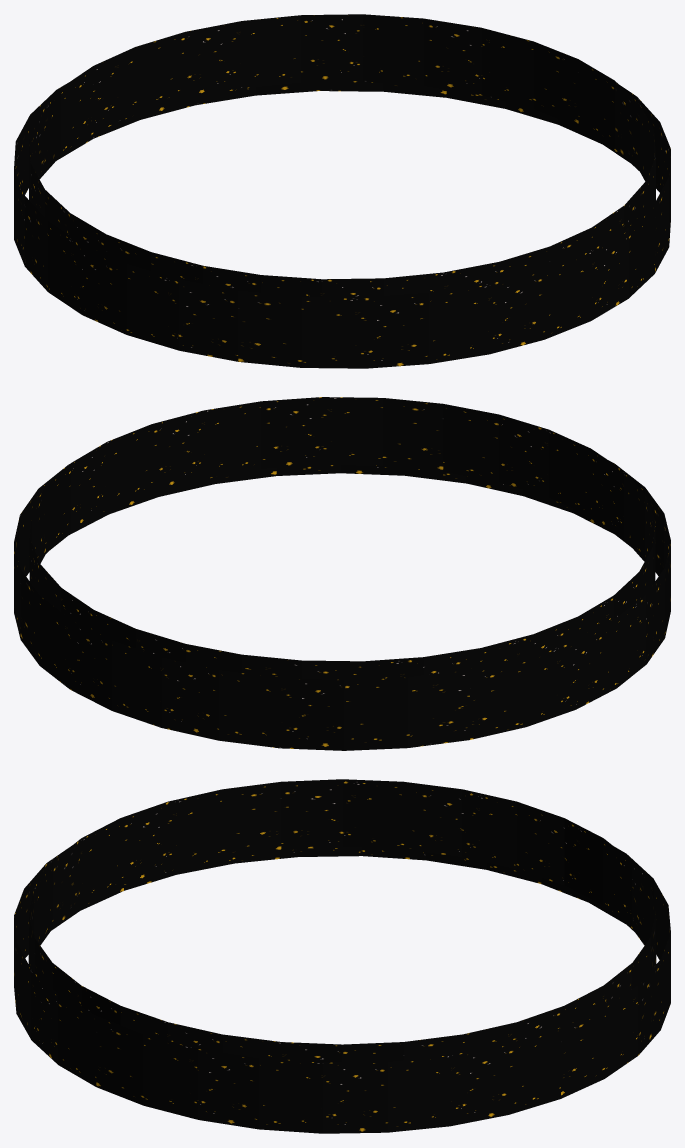
Rendered from Border.fbx.
3 renders of one model, top to bottom at view 1: azimuth 30°, elevation 25°; view 2: azimuth 150°, elevation 25°; view 3: azimuth 270°, elevation 25°, orthographic.
Parts seen in each view (by area): view 1: Circle.003; view 2: Circle.003; view 3: Circle.003.
Part boxes in pixels (bbox=[...]): Circle.003: bbox=[14, 14, 670, 368]; Circle.003: bbox=[14, 397, 670, 750]; Circle.003: bbox=[14, 779, 670, 1133].
Size of the model in its own units: 1648 by 230 by 1648.
